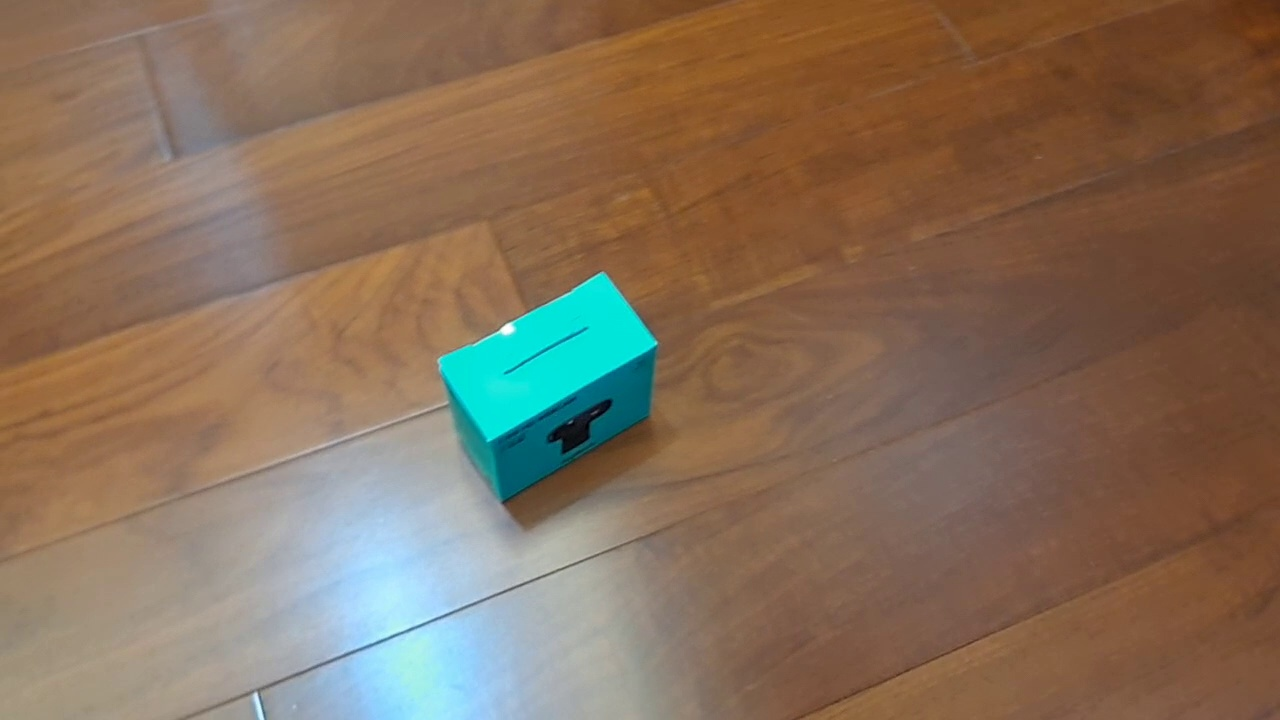webcam: (436, 271, 660, 504)
